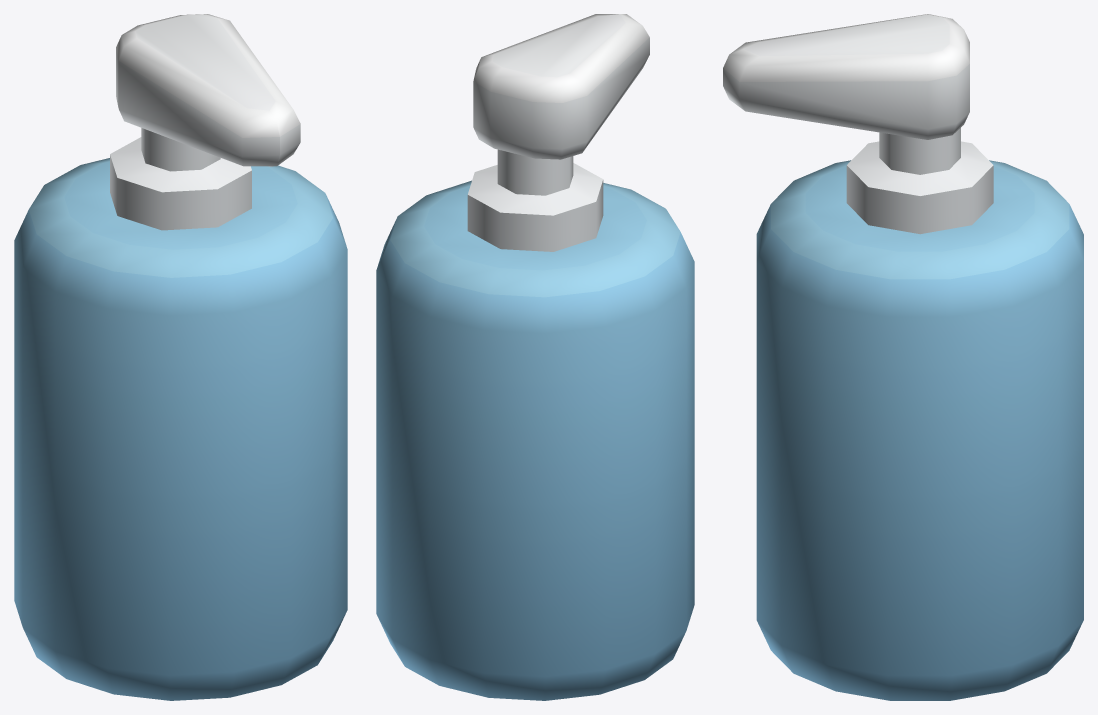
Rendered from container_bathroom_D_blue.fbx.
3 views of the same model, side by side, from view 1: azimuth 30°, elevation 25°; view 2: azimuth 150°, elevation 25°; view 3: azimuth 270°, elevation 25° (orthographic). The views are drawn at different scales.
Visible parts, largest first — view 1: container_bathroom_D_blue; view 2: container_bathroom_D_blue; view 3: container_bathroom_D_blue.
Part boxes in pixels (box(x1,y1,x2,y2)): container_bathroom_D_blue: box(14, 14, 347, 700); container_bathroom_D_blue: box(376, 14, 694, 700); container_bathroom_D_blue: box(723, 14, 1083, 700).
Size of the model in its own units: 0.312 by 0.65 by 0.3445.
